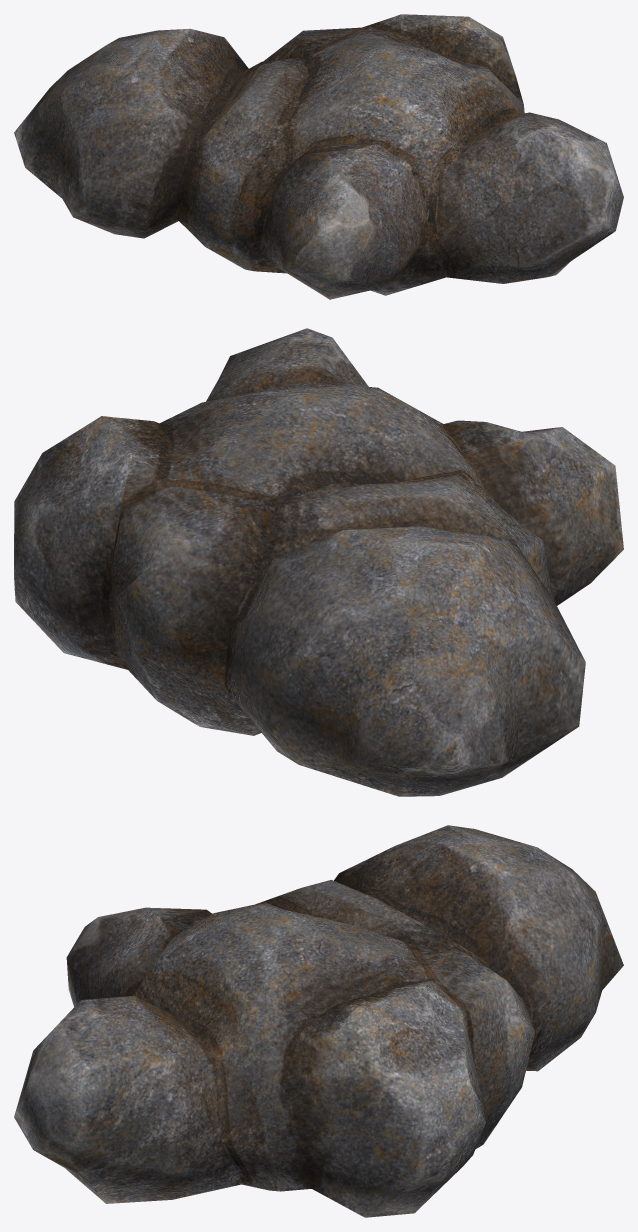
Rendered from Rock_01.glb.
3 views of the same model, one above another, from view 1: azimuth 30°, elevation 25°; view 2: azimuth 150°, elevation 25°; view 3: azimuth 270°, elevation 25° (orthographic). The views are drawn at different scales.
Visible parts, largest first — view 1: Object_22; view 2: Object_22; view 3: Object_22.
Part boxes in pixels (<box>): Object_22: <box>14,14,623,299</box>; Object_22: <box>14,328,623,796</box>; Object_22: <box>14,825,623,1217</box>.
Bounding box in the file's own units: 20.75 × 9.93 × 21.68.
1 material, 1 textured.
